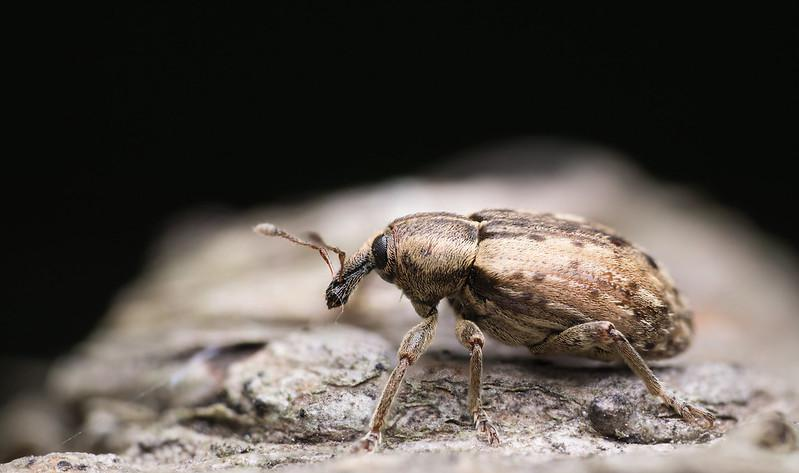weevils: (225, 175, 761, 473)
